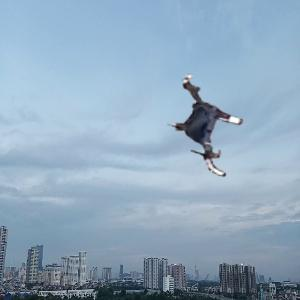drone: (153, 73, 258, 178)
